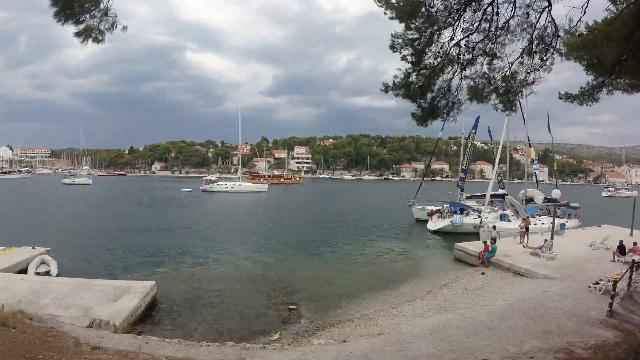Freighter: (239, 167, 311, 189), (1, 165, 36, 182)
Sailboat: (193, 173, 275, 197), (56, 168, 98, 188)
